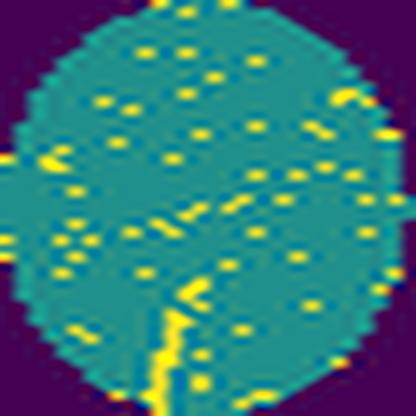Scratch: (130, 302, 200, 416)
